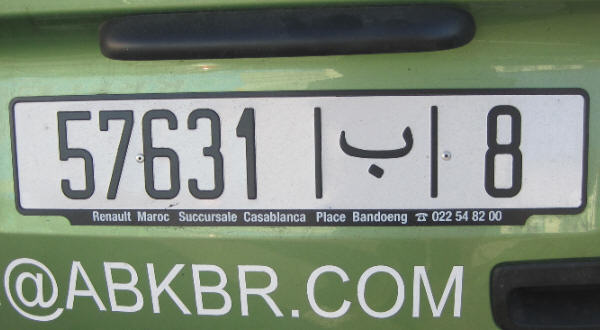number_plate: (16, 91, 588, 214)
